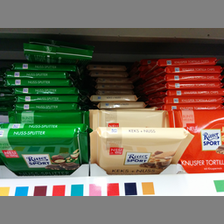chocolate: (1, 121, 87, 178), (90, 127, 190, 173), (170, 109, 224, 172)
